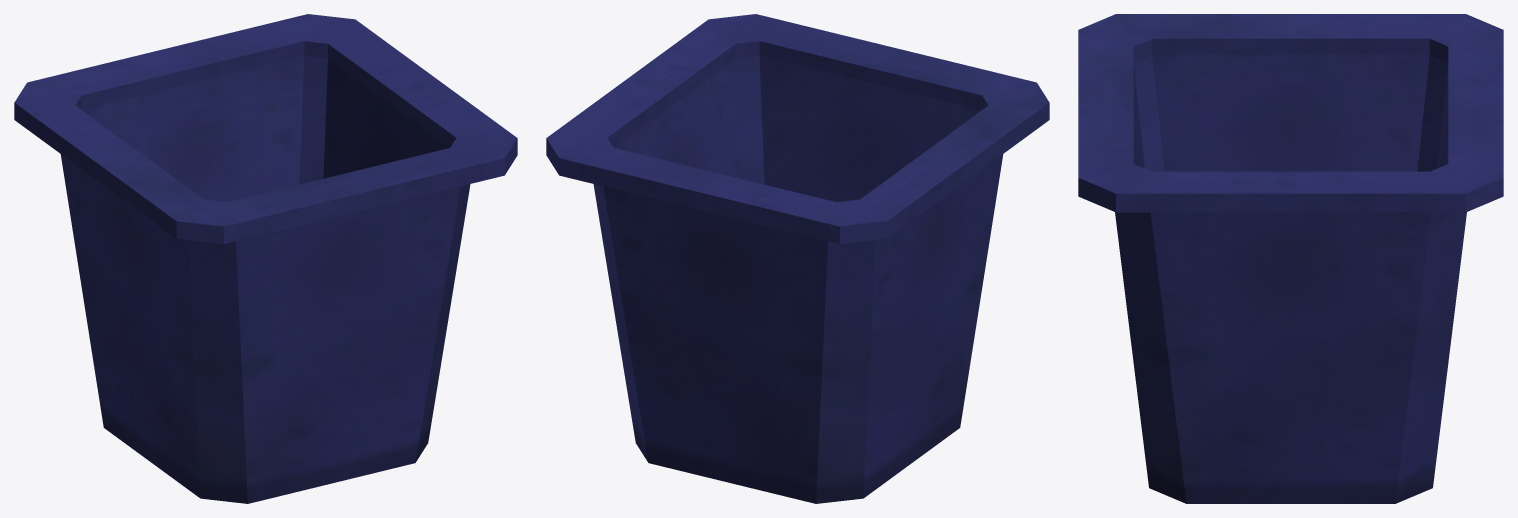
File: ingredient_container.fbx
3 views of the same model, side by side, from view 1: azimuth 30°, elevation 25°; view 2: azimuth 150°, elevation 25°; view 3: azimuth 270°, elevation 25° (orthographic). The views are drawn at different scales.
Parts seen in each view (by area): view 1: ingredient container; view 2: ingredient container; view 3: ingredient container.
Boxes of the visible parts, x1,y1,x2,y2 form: ingredient container: (14,14,517,503); ingredient container: (546,14,1049,503); ingredient container: (1078,14,1503,503).
Bounding box in the file's own units: 0.2697 × 0.2697 × 0.2382.
